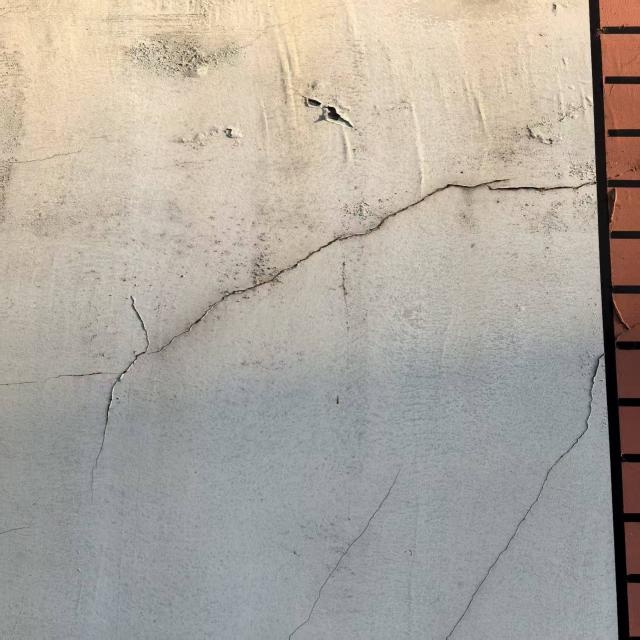crack: (9, 171, 607, 502), (443, 330, 627, 636), (276, 459, 413, 636)
mildew: (122, 31, 243, 78)
spalling: (288, 84, 367, 133)
